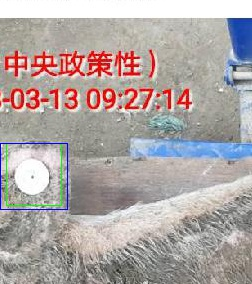text: (6, 143, 61, 205)
